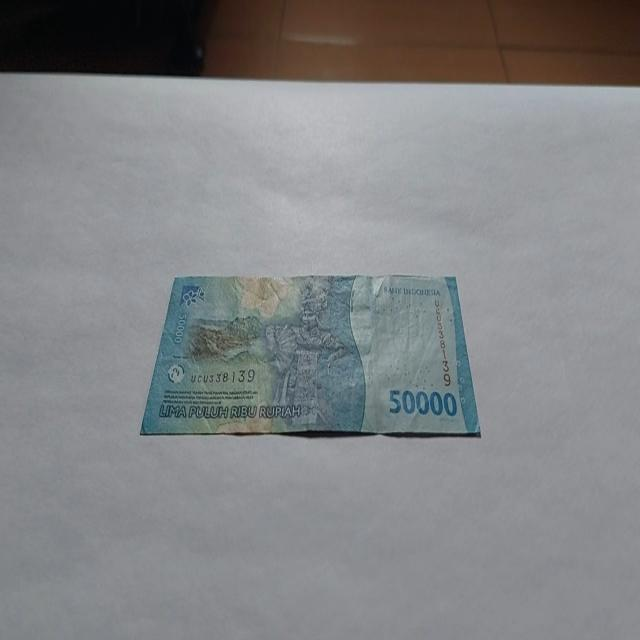lima puluh ribu rupiah: (138, 271, 482, 439)
